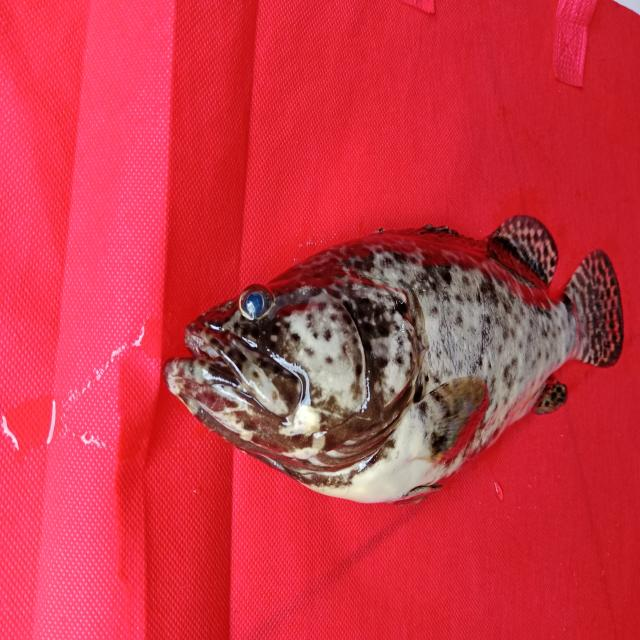ikan: (140, 193, 605, 514)
